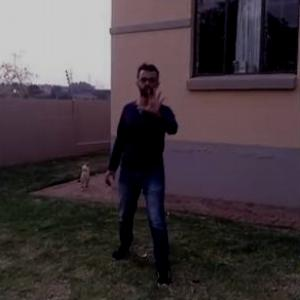follow_hand: (136, 78, 172, 119)
